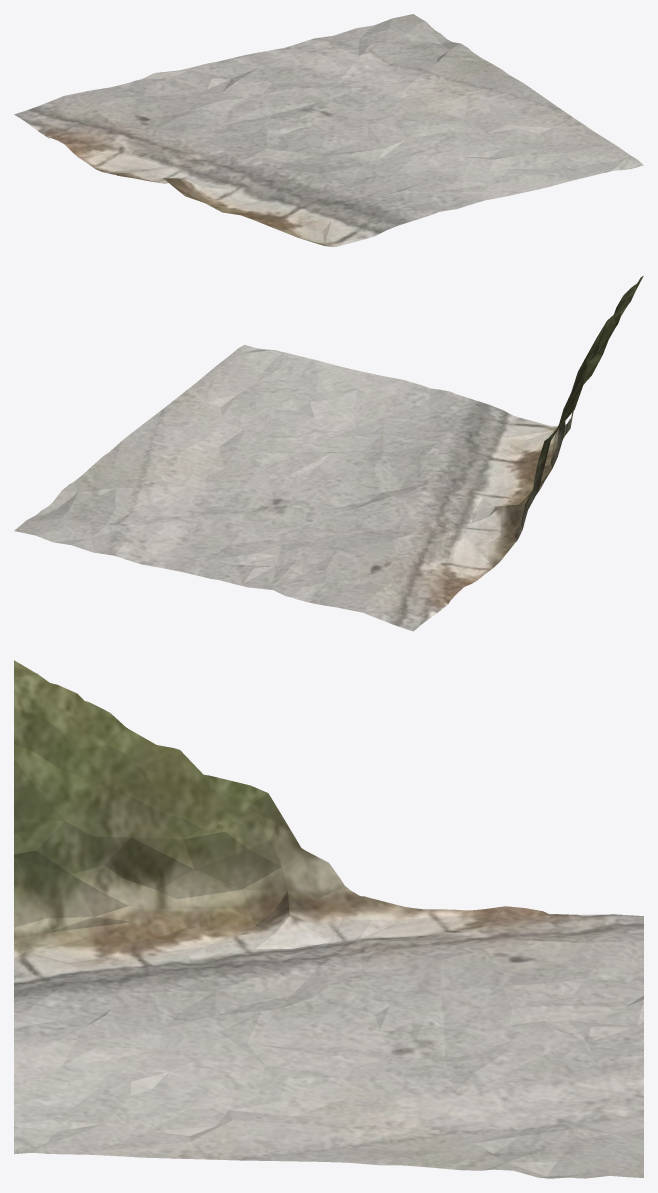
The picture shows the model from 3 angles, top to bottom: view 1: azimuth 30°, elevation 25°; view 2: azimuth 150°, elevation 25°; view 3: azimuth 270°, elevation 25°; orthographic projection. The views are drawn at different scales.
Size of the model in its own units: 2.95 by 1.32 by 2.95.
Materials: 3 (3 with a texture image).
